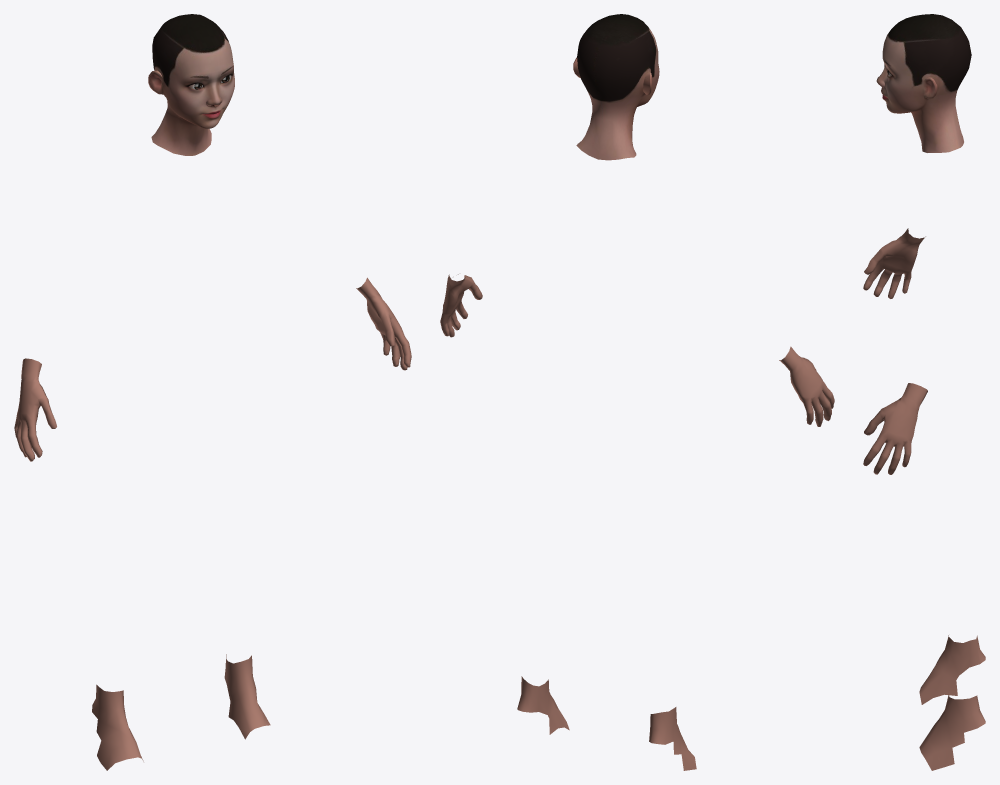
File: femalehead2.glb
The picture shows the model from 3 angles, left to right: view 1: azimuth 30°, elevation 25°; view 2: azimuth 150°, elevation 25°; view 3: azimuth 270°, elevation 25°; orthographic projection. The views are drawn at different scales.
Parts seen in each view (by area): view 1: Wolf3D_Head, Wolf3D_Body; view 2: Wolf3D_Head, Wolf3D_Body; view 3: Wolf3D_Body, Wolf3D_Head.
Boxes of the visible parts, box(x1,y1,x2,y2) form: Wolf3D_Head: box(148, 14, 234, 155); Wolf3D_Body: box(14, 277, 411, 770); Wolf3D_Head: box(573, 14, 659, 160); Wolf3D_Body: box(440, 274, 834, 770); Wolf3D_Body: box(863, 228, 985, 770); Wolf3D_Head: box(876, 14, 971, 152).
Size of the model in its own units: 0.9279 by 1.69 by 0.2623.
Materials: 3 (3 with a texture image).
